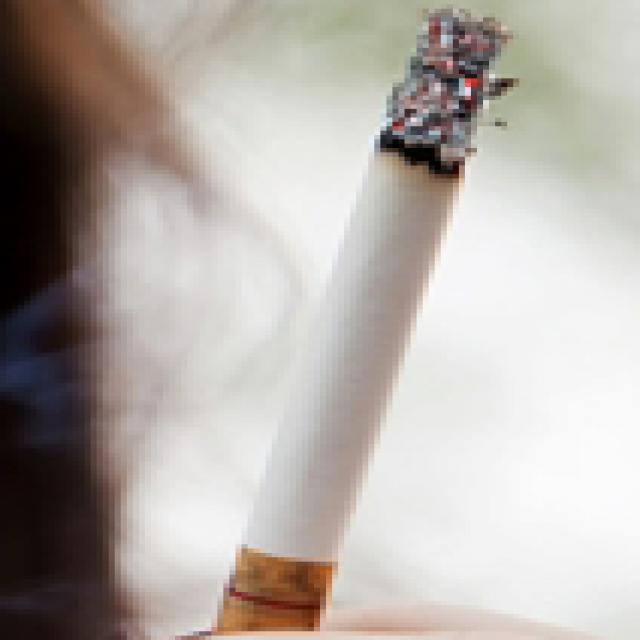smoking: (208, 9, 514, 632)
